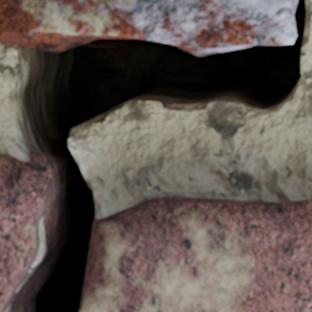brick: (0, 0, 296, 54)
broken_brick: (82, 196, 311, 311), (0, 153, 49, 308)
crack: (0, 0, 309, 311)
